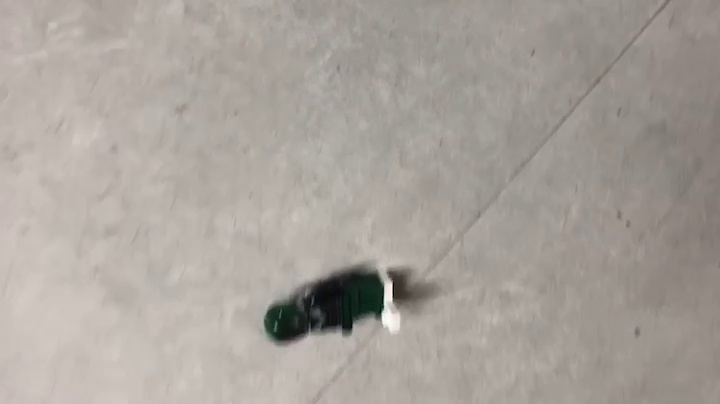people: (263, 264, 404, 343)
